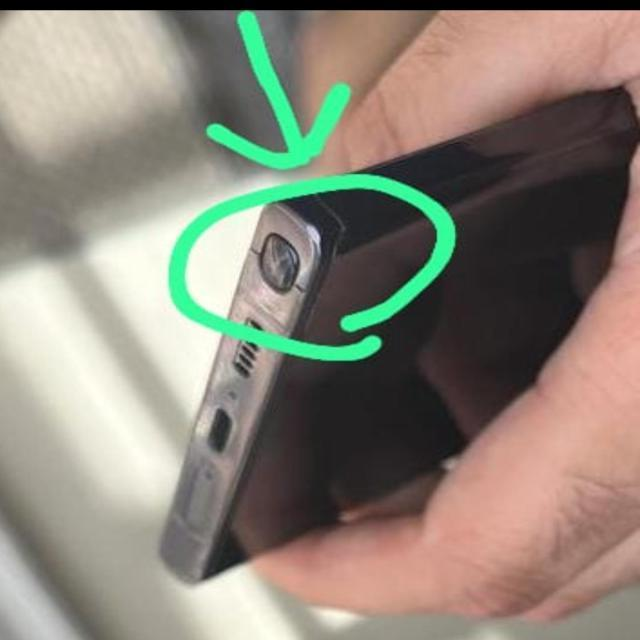Dents: (243, 192, 329, 331)
